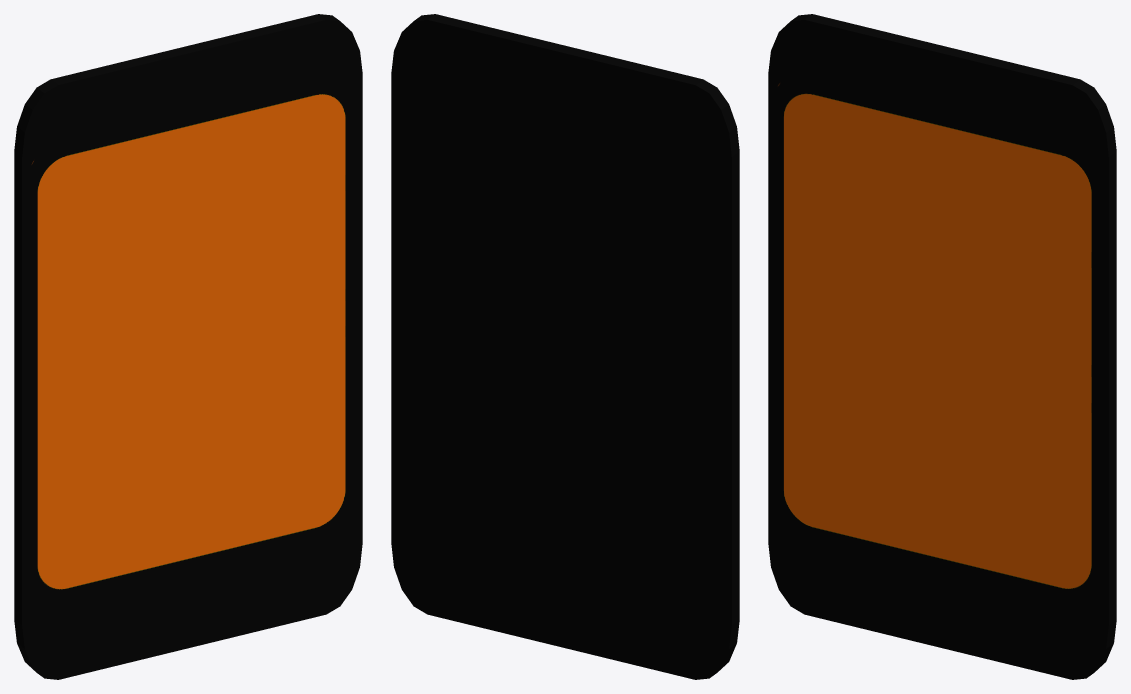
File: turuncu.fbx
3 renders of one model, left to right at view 1: azimuth 30°, elevation 25°; view 2: azimuth 150°, elevation 25°; view 3: azimuth 330°, elevation 25°, orthographic.
Parts seen in each view (by area): view 1: Cube; view 2: Cube; view 3: Cube.
Part boxes in pixels (left/top/right/bottom): Cube: left=14, top=14, right=362, bottom=679; Cube: left=391, top=14, right=739, bottom=679; Cube: left=768, top=14, right=1116, bottom=679.
Size of the model in its own units: 302 by 504 by 12.15.
